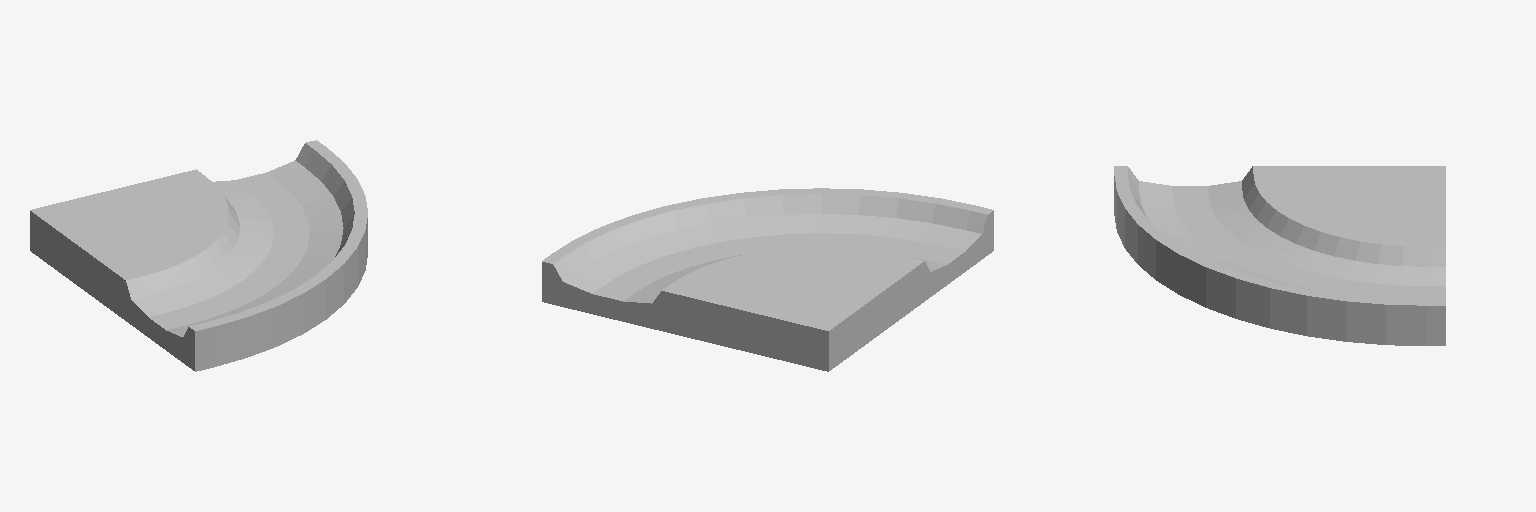
File: curve-wide-solid-large.obj
3 views of the same model, side by side, from view 1: azimuth 30°, elevation 25°; view 2: azimuth 150°, elevation 25°; view 3: azimuth 270°, elevation 25° (orthographic).
Visible parts, largest first — view 1: curve-wide-solid-large; view 2: curve-wide-solid-large; view 3: curve-wide-solid-large.
Part boxes in pixels (left/top/right/bottom): curve-wide-solid-large: left=30, top=140, right=367, bottom=371; curve-wide-solid-large: left=542, top=188, right=993, bottom=371; curve-wide-solid-large: left=1114, top=166, right=1445, bottom=345.
Bounding box in the file's own units: 3.7 × 0.5 × 3.7.